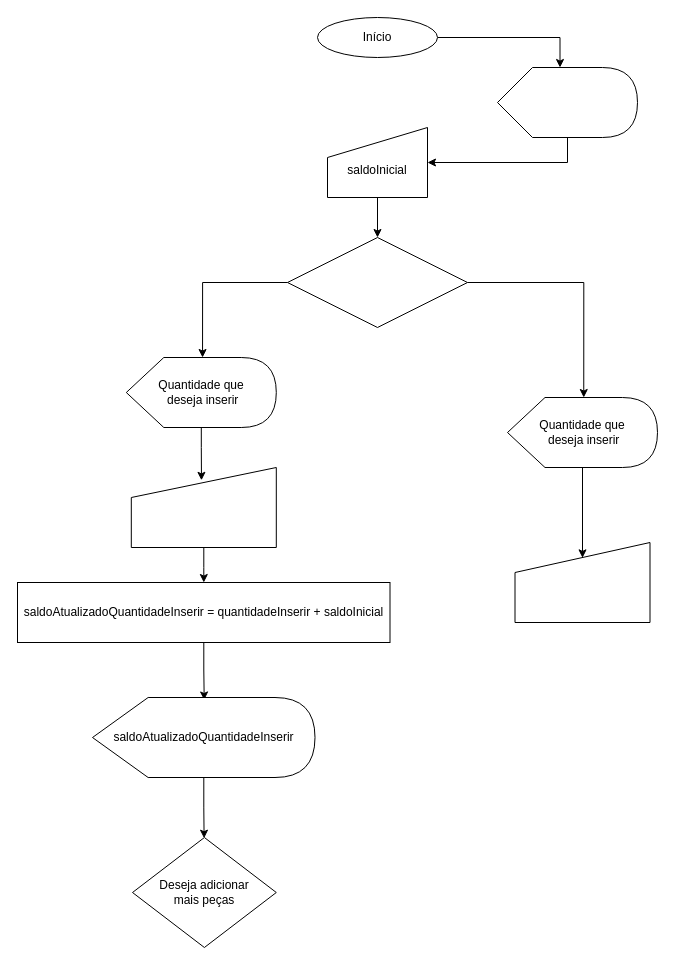
This 675x965 diagram has some shape labels left out. The box of each missing label's shape, as (x1, y1, x2, y2) in pixels:
informar o saldo inicial da peça: (496, 66, 638, 138)
Inserir digite (1) Retirar digite (2): (286, 236, 468, 328)
quantidadeInserir: (130, 466, 276, 548)
quantidadeRetirar: (514, 542, 650, 622)
